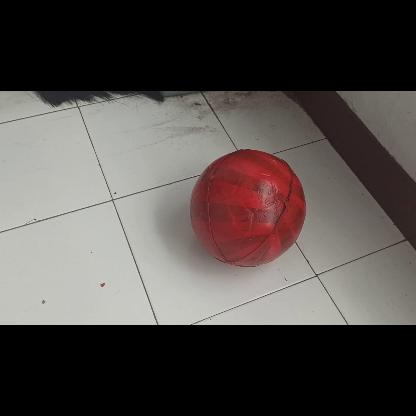red_ball: (190, 152, 306, 266)
